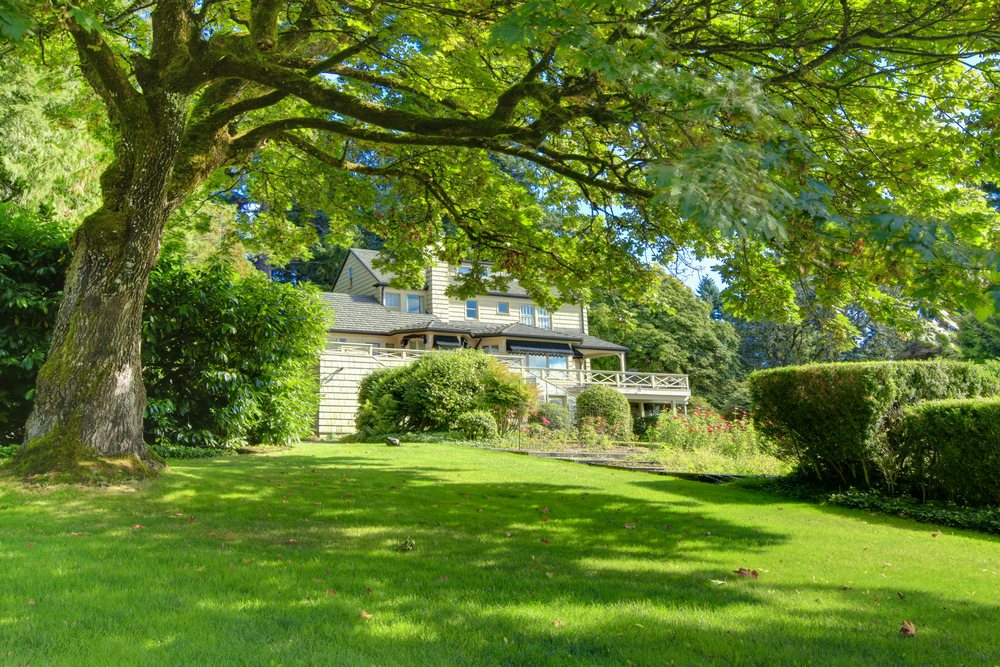bush: (738, 362, 1000, 504), (341, 350, 552, 452)
tree: (1, 1, 786, 467)
